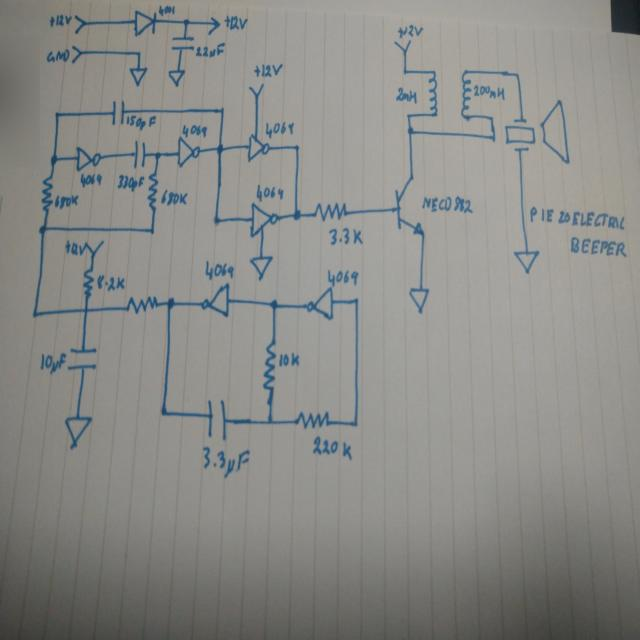capacitor: (205, 396, 228, 440), (67, 343, 98, 373), (131, 138, 147, 170), (110, 98, 126, 126), (170, 34, 194, 52)
crossover: (80, 304, 92, 318)
diode: (131, 8, 158, 38)
ground: (61, 414, 95, 451), (249, 251, 275, 281), (513, 248, 540, 276), (408, 286, 430, 314), (167, 66, 186, 90), (128, 65, 148, 87)
inductor: (424, 67, 441, 119), (457, 66, 471, 124)
junction: (162, 294, 178, 314), (156, 404, 173, 422), (289, 204, 304, 224), (212, 140, 228, 158), (210, 208, 223, 230), (36, 221, 50, 241), (290, 140, 306, 156), (266, 297, 281, 314), (348, 293, 362, 309), (264, 413, 276, 431), (349, 415, 363, 430), (29, 306, 41, 322), (146, 222, 158, 238), (48, 151, 59, 168), (216, 102, 228, 117), (486, 111, 498, 126), (404, 125, 417, 138), (512, 67, 524, 81), (488, 132, 500, 145), (153, 149, 163, 163), (52, 108, 62, 121), (400, 66, 411, 77), (404, 109, 414, 121), (182, 15, 191, 28), (135, 49, 142, 59)
resistor: (261, 338, 278, 392), (292, 409, 333, 431), (311, 200, 348, 222), (124, 294, 160, 316), (39, 172, 53, 215), (146, 169, 159, 215), (80, 264, 94, 302)
terminal: (246, 80, 266, 100), (84, 238, 104, 258), (393, 36, 415, 54), (207, 13, 221, 38), (73, 11, 86, 36), (70, 40, 82, 67)
text: (528, 204, 628, 232), (201, 443, 251, 479), (568, 233, 628, 260), (420, 193, 476, 216), (310, 434, 354, 462), (327, 226, 365, 246), (203, 259, 236, 281), (326, 266, 360, 287), (472, 82, 507, 101), (254, 182, 286, 202), (263, 120, 296, 139), (115, 172, 146, 192), (39, 352, 66, 374), (96, 273, 126, 292), (160, 188, 188, 208), (125, 113, 156, 131), (223, 13, 249, 34), (195, 41, 225, 59), (278, 348, 302, 370), (253, 62, 284, 79), (394, 86, 420, 106), (396, 23, 426, 38), (53, 194, 80, 210), (45, 47, 70, 64), (78, 171, 103, 188), (181, 123, 209, 138), (64, 238, 86, 257), (48, 12, 72, 28), (157, 3, 177, 17)
transistor: (388, 172, 427, 239)
